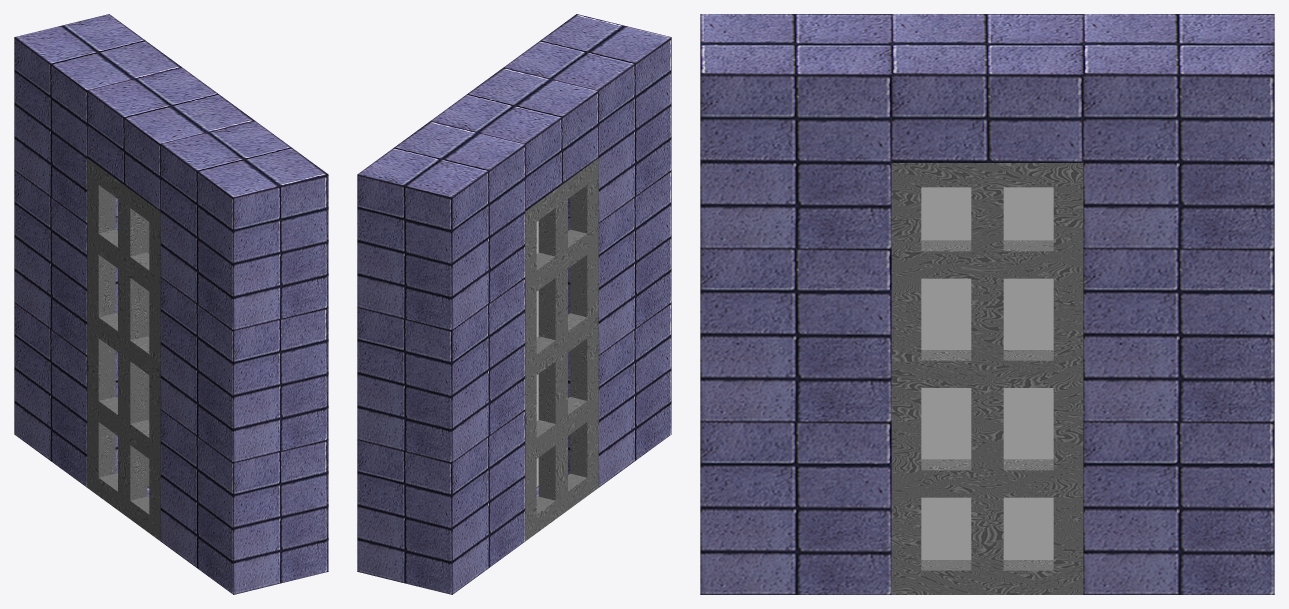
Rendered from Tile_Window.fbx.
The picture shows the model from 3 angles, left to right: view 1: azimuth 30°, elevation 25°; view 2: azimuth 150°, elevation 25°; view 3: azimuth 270°, elevation 25°; orthographic projection. The views are drawn at different scales.
Visible parts, largest first — view 1: Window_Mesh; view 2: Window_Mesh; view 3: Window_Mesh.
Part boxes in pixels (<box>): Window_Mesh: <box>14,14,328,594</box>; Window_Mesh: <box>357,14,671,594</box>; Window_Mesh: <box>700,14,1274,594</box>.
Size of the model in its own units: 100 by 400 by 400.
